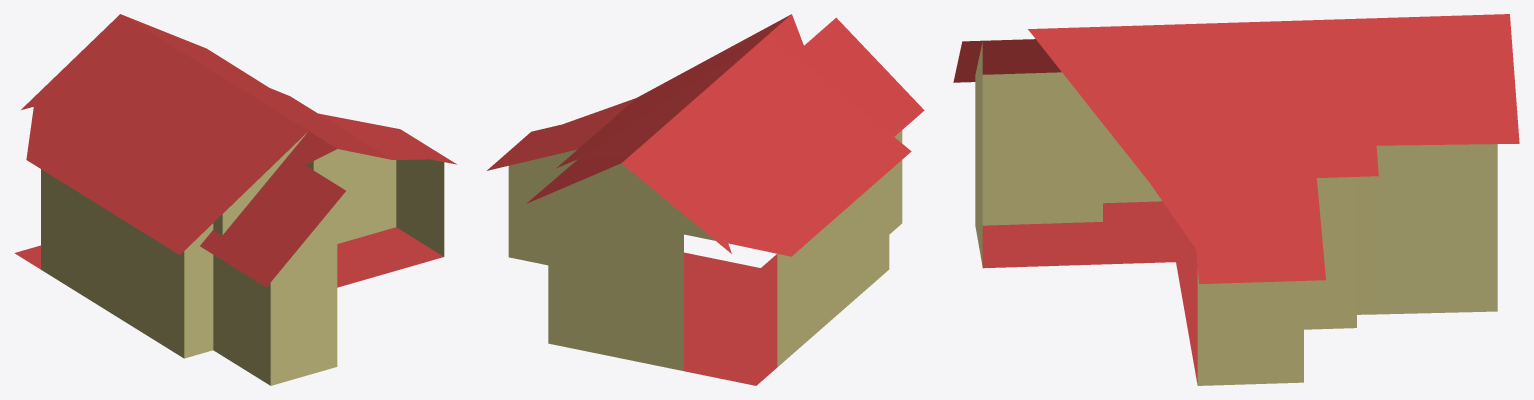
The picture shows the model from 3 angles, left to right: view 1: azimuth 30°, elevation 25°; view 2: azimuth 150°, elevation 25°; view 3: azimuth 270°, elevation 25°; orthographic projection. The views are drawn at different scales.
Bounding box in the file's own units: 24.19 × 27.57 × 13.46.
